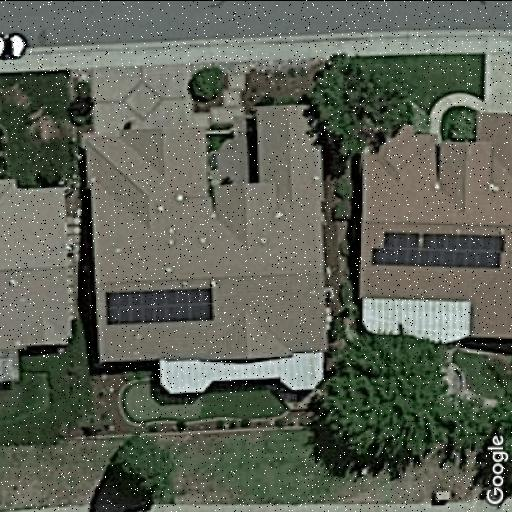solar-panel: (368, 226, 508, 272), (103, 284, 216, 327)
